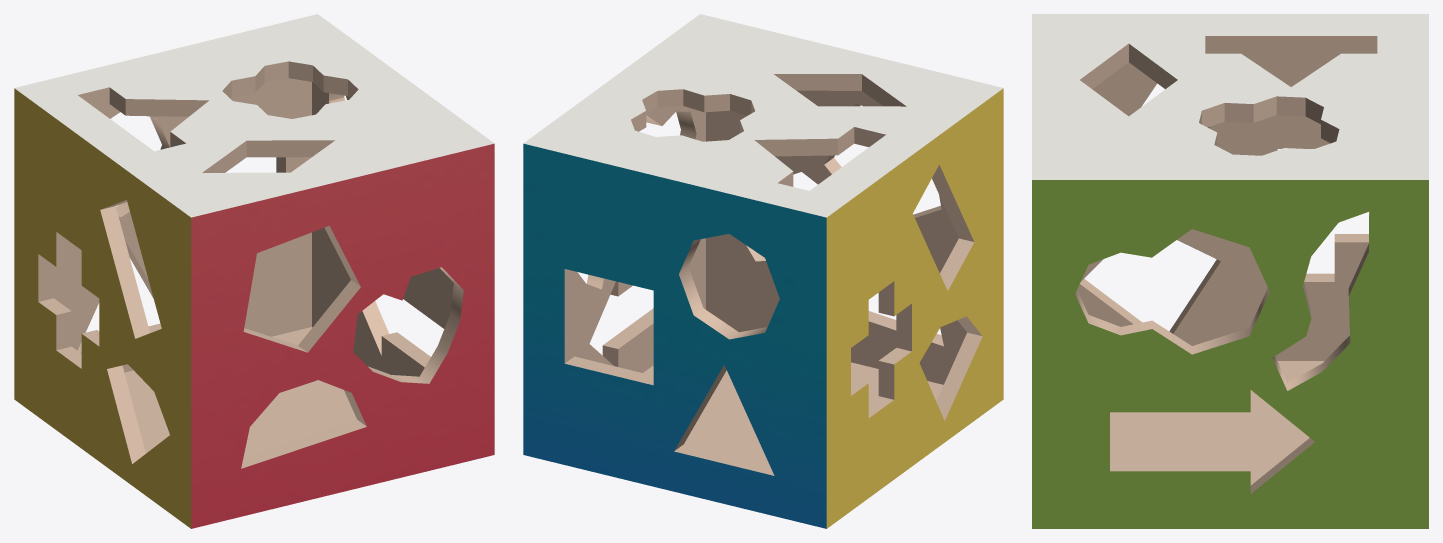
Rendered from SM_Shape_Block_01.fbx.
3 views of the same model, side by side, from view 1: azimuth 30°, elevation 25°; view 2: azimuth 150°, elevation 25°; view 3: azimuth 270°, elevation 25° (orthographic). The views are drawn at different scales.
Parts seen in each view (by area): view 1: SM_Shape_Block_01; view 2: SM_Shape_Block_01; view 3: SM_Shape_Block_01.
Boxes of the visible parts, <box> form: SM_Shape_Block_01: <box>14,14,494,528</box>; SM_Shape_Block_01: <box>523,14,1003,528</box>; SM_Shape_Block_01: <box>1032,14,1428,528</box>.
Bounding box in the file's own units: 20.21 × 19.8 × 20.41.
